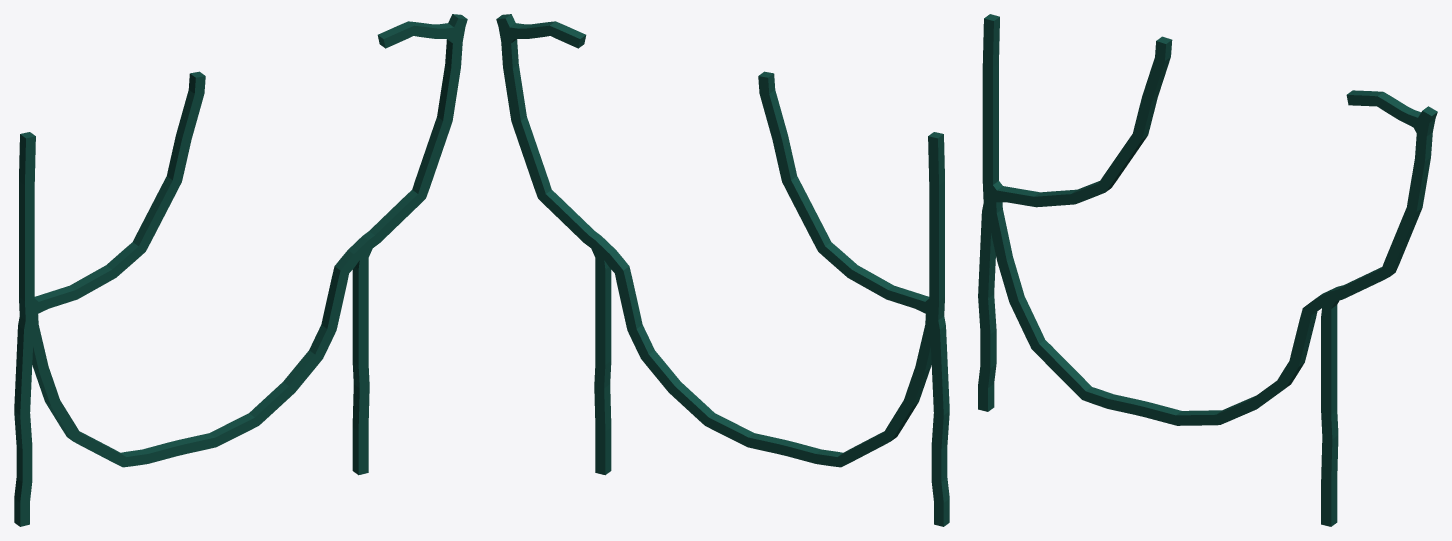
Rendered from liana_001_grp.fbx.
3 renders of one model, left to right at view 1: azimuth 30°, elevation 25°; view 2: azimuth 150°, elevation 25°; view 3: azimuth 330°, elevation 25°, orthographic.
Parts seen in each view (by area): view 1: liana_001_grp; view 2: liana_001_grp; view 3: liana_001_grp.
Boxes of the visible parts, box(x1,y1,x2,y2) form: liana_001_grp: box(14, 14, 467, 526); liana_001_grp: box(496, 14, 949, 526); liana_001_grp: box(978, 14, 1437, 526).
Size of the model in its own units: 750 by 700 by 17.48.
